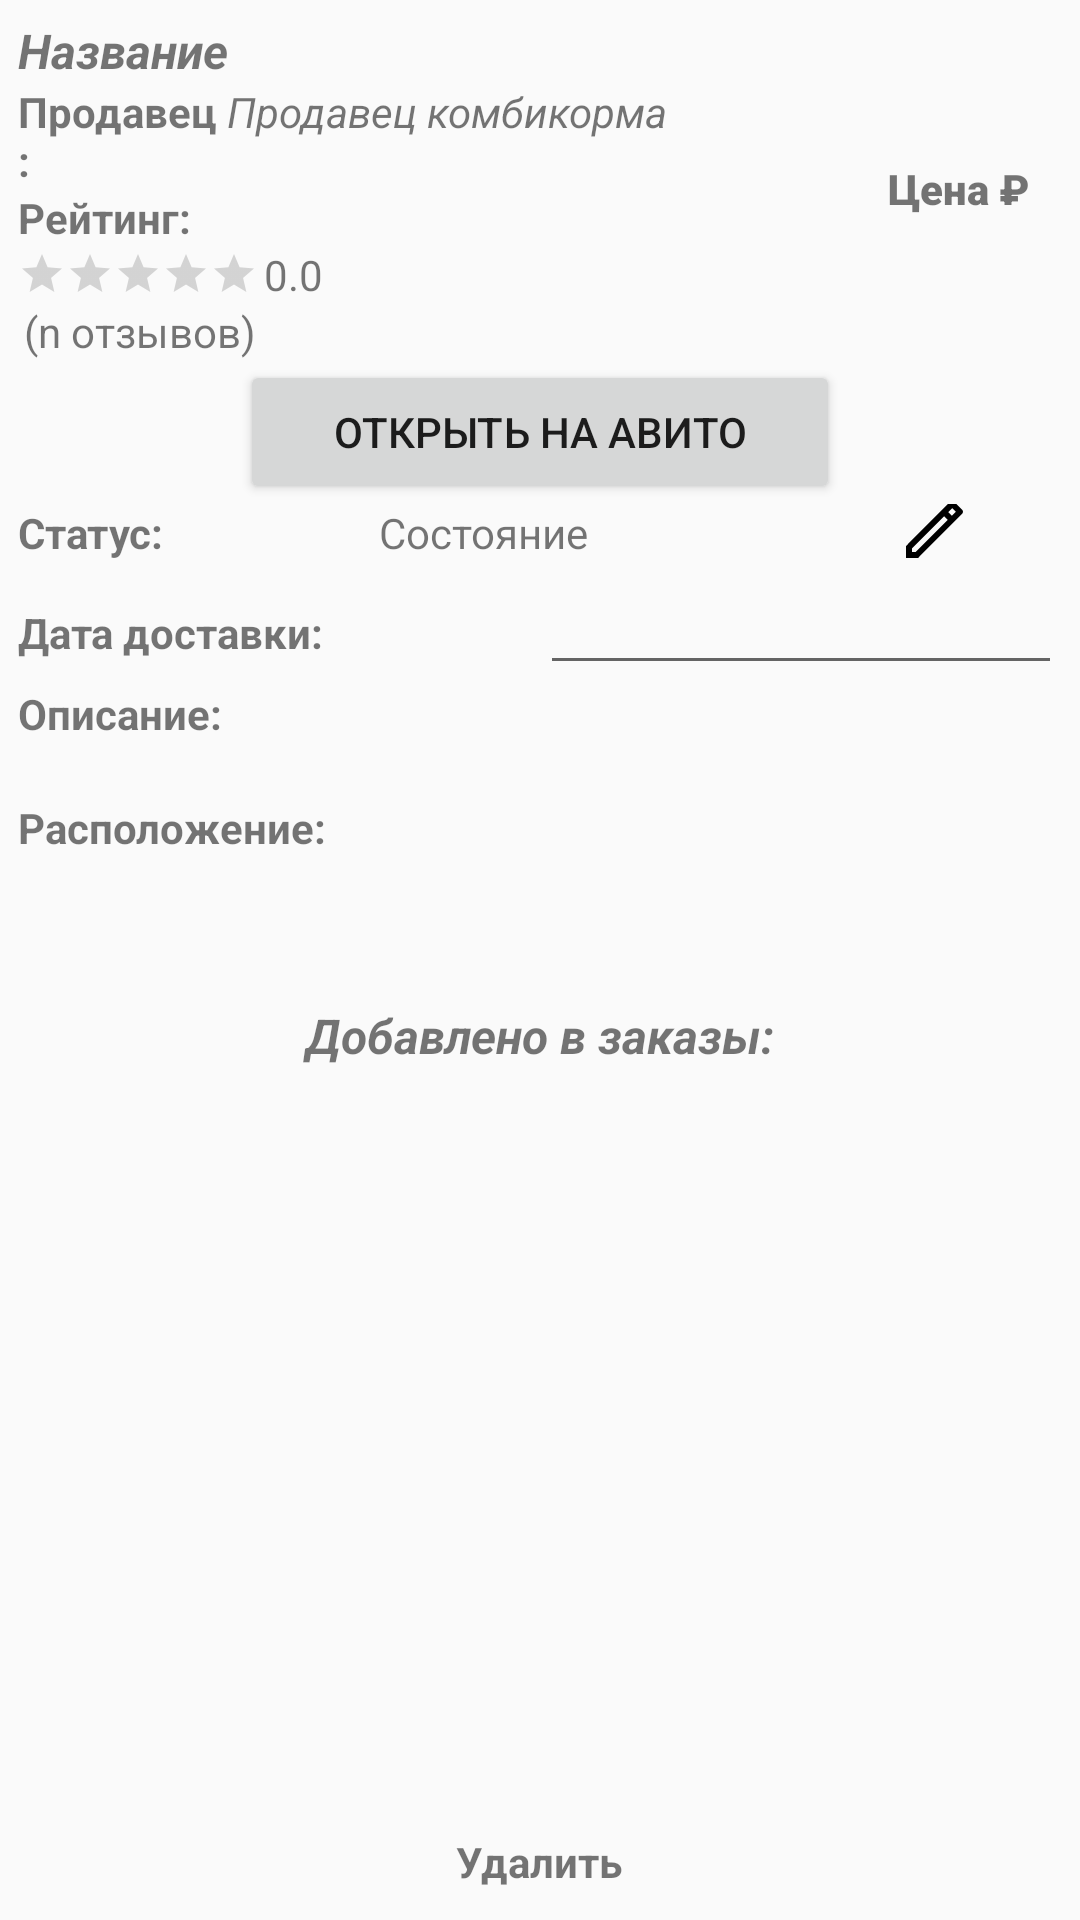

Icon click points for this 1080 x 1920 phone screenshot, format [x,y]:
edit: [934,531]
